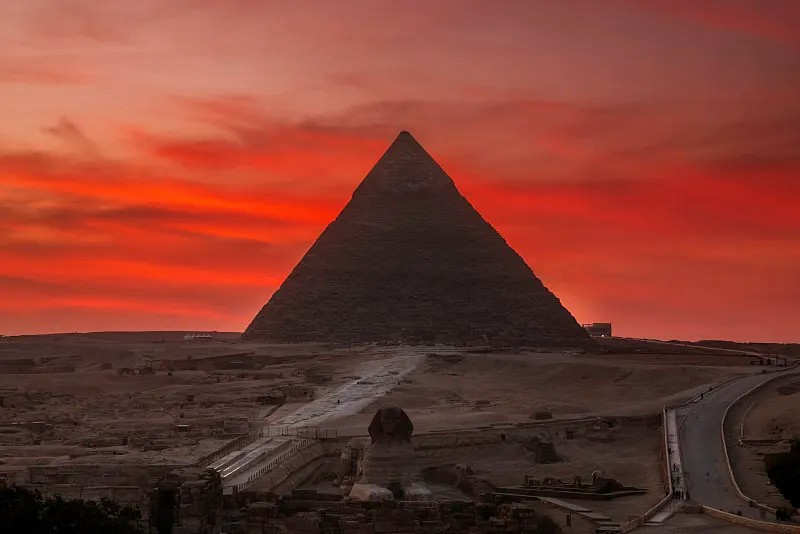Pyramid: (240, 130, 598, 348)
